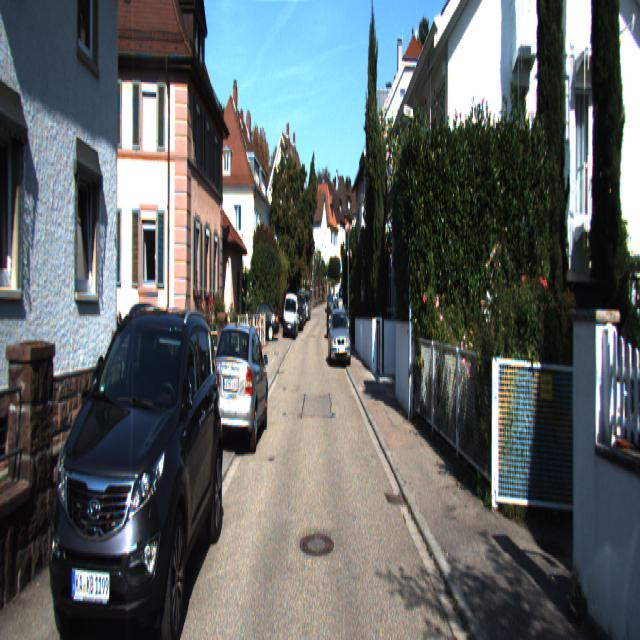Car: (38, 272, 227, 638), (207, 318, 270, 455), (328, 307, 351, 369), (282, 291, 299, 339)
